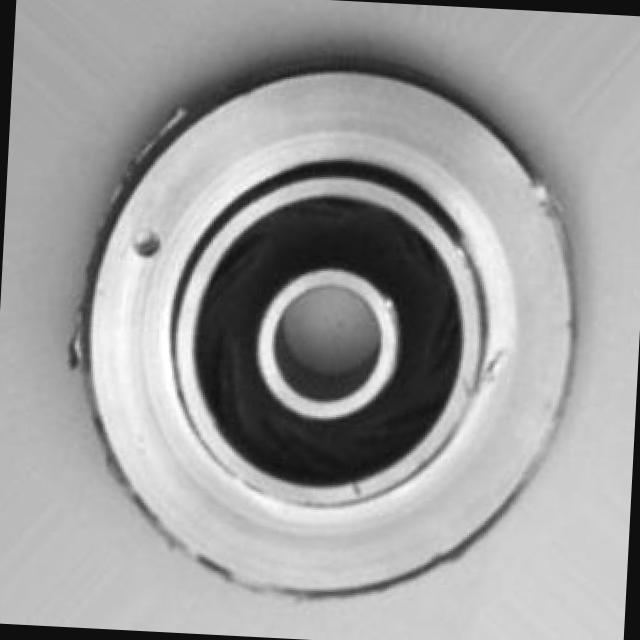Defect: (132, 227, 170, 260)
